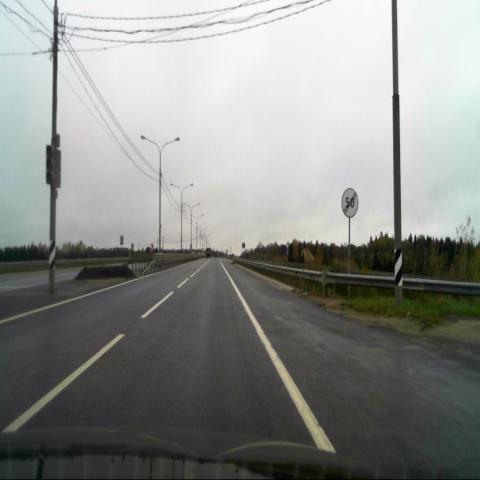3_25: (341, 188, 358, 218)
